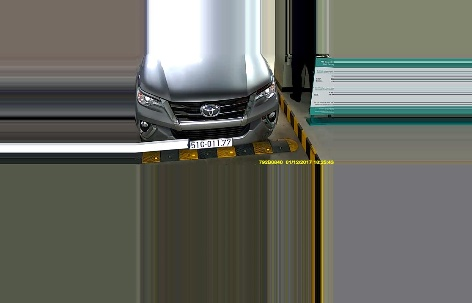plate: (189, 134, 235, 149)
